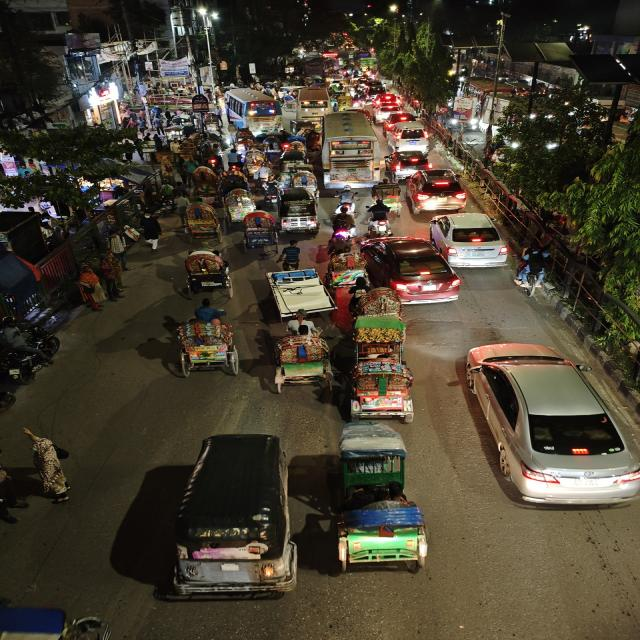bicycle: (514, 247, 554, 299)
bus: (317, 112, 383, 186), (224, 89, 283, 130), (295, 90, 335, 120)
car: (452, 338, 640, 510), (359, 236, 462, 306), (425, 211, 514, 267), (404, 167, 471, 211), (388, 124, 435, 152), (390, 150, 431, 172), (384, 110, 416, 124)
cng: (163, 430, 301, 606), (278, 188, 321, 235)
motorcycle: (364, 201, 396, 237), (328, 203, 358, 241), (252, 159, 276, 193)
pedestrian: (22, 429, 79, 503), (70, 264, 108, 312), (0, 462, 19, 534), (96, 255, 125, 298), (102, 231, 134, 269), (136, 212, 165, 252), (172, 190, 191, 224)
rickshaw: (313, 426, 445, 576), (346, 315, 416, 425), (158, 306, 246, 380), (262, 313, 334, 394), (260, 263, 334, 314), (177, 246, 238, 298), (278, 187, 321, 235), (179, 201, 223, 247), (240, 209, 279, 258), (323, 246, 366, 290), (222, 186, 254, 222), (189, 164, 221, 197), (372, 181, 404, 211), (290, 167, 321, 190), (278, 148, 308, 168), (300, 128, 324, 152), (334, 96, 354, 112), (329, 80, 347, 96)
